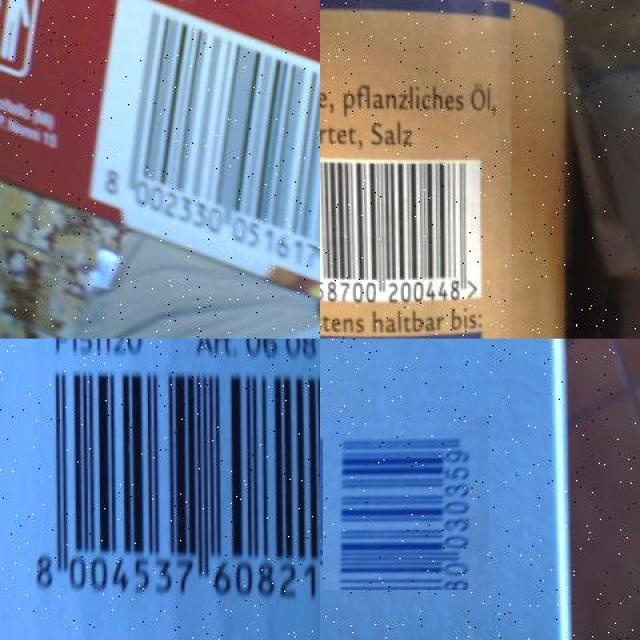Barcode: (21, 357, 320, 615), (89, 0, 320, 288), (321, 419, 492, 588), (320, 157, 485, 304)
